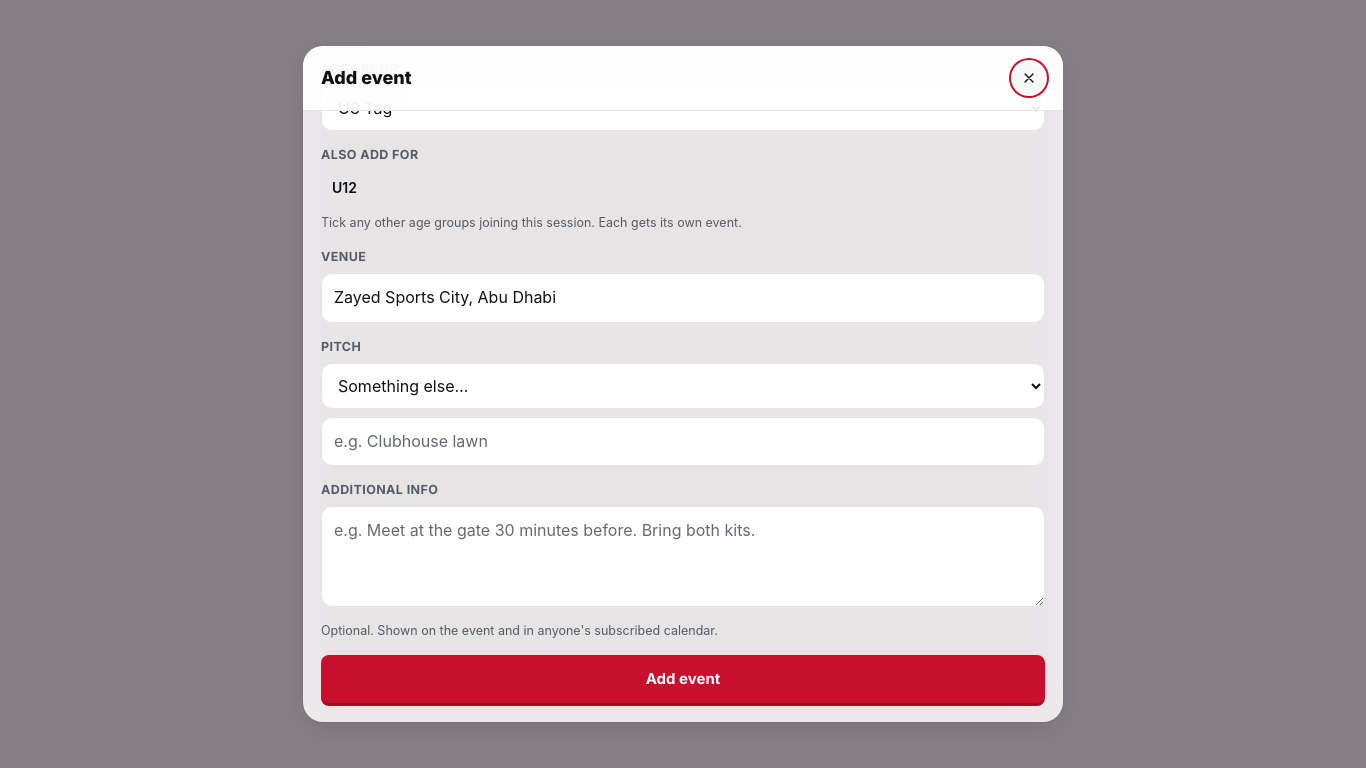
Test case: EventForm pitch portion › stays hidden until a real pitch is chosen
The image size is (1366, 768).
(page scrolled)
Check: the field labelled "How much of the pitch" is not shown
// Pitch TBD is a placeholder, not a pitch — still nothing to split.
Select "Pitch TBD — not allocated yet" in the dropdown labelled "Pitch": coordinates (683, 386) [321, 363, 1045, 409]
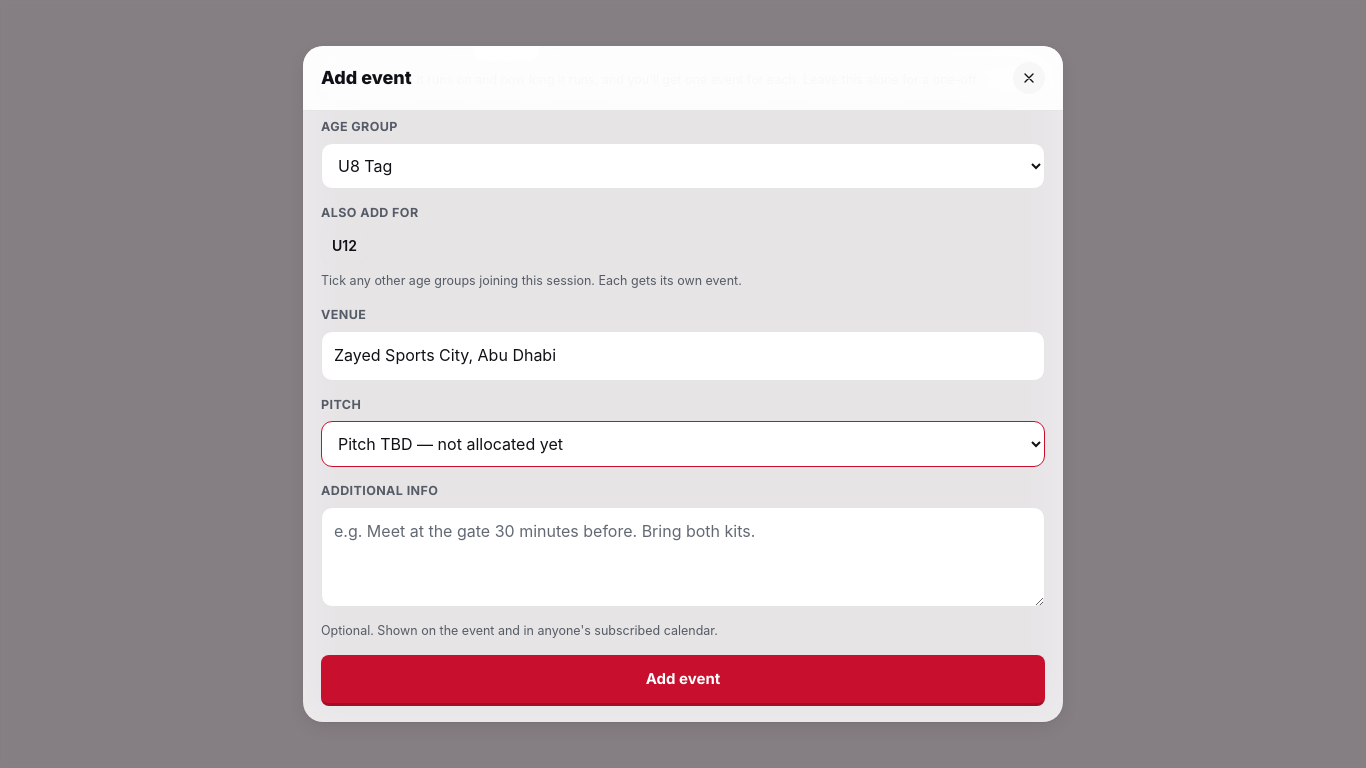
Check: the field labelled "How much of the pitch" is not shown
Select "Pitch 1" in the dropdown labelled "Pitch": coordinates (683, 444) [321, 421, 1045, 467]
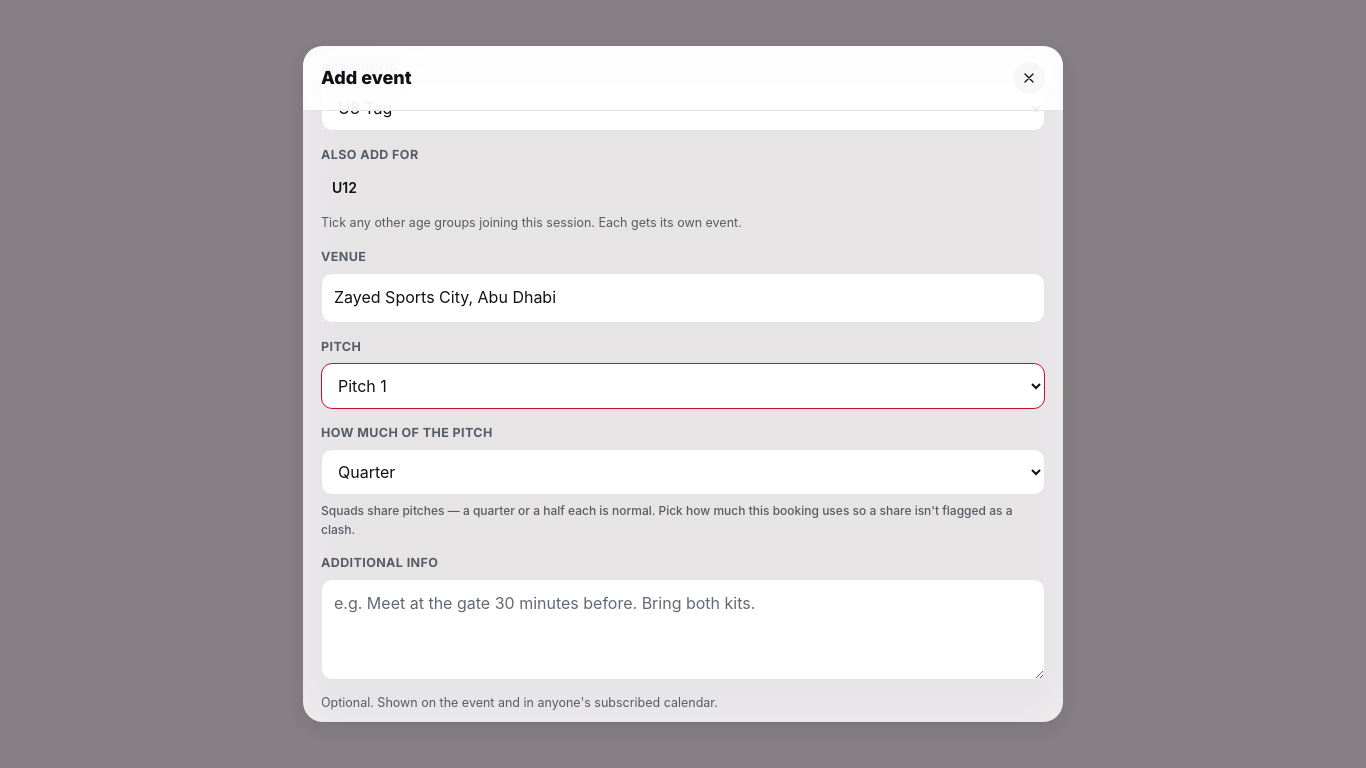
Check: the dropdown labelled "How much of the pitch" is shown, box [321, 449, 1045, 495]
